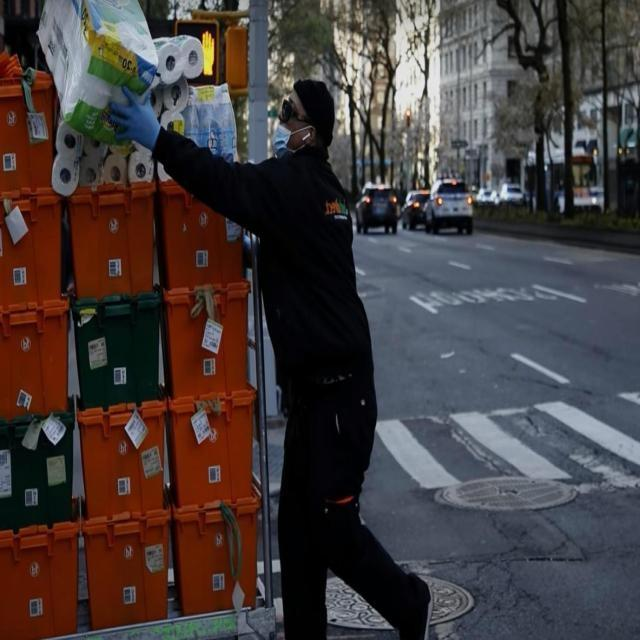hairnet: (272, 77, 334, 162)
